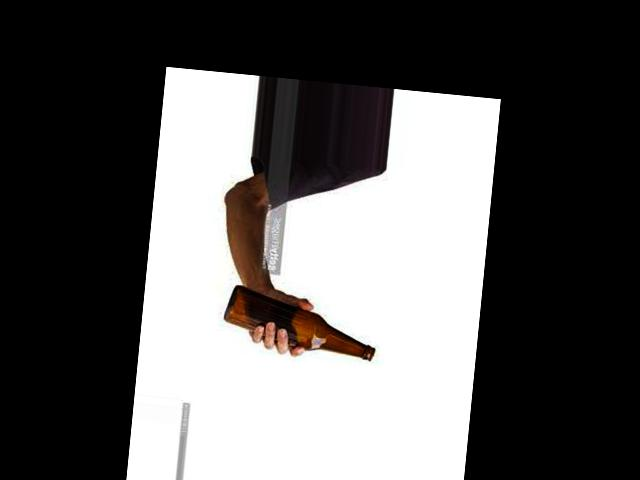beer: (221, 282, 379, 360)
